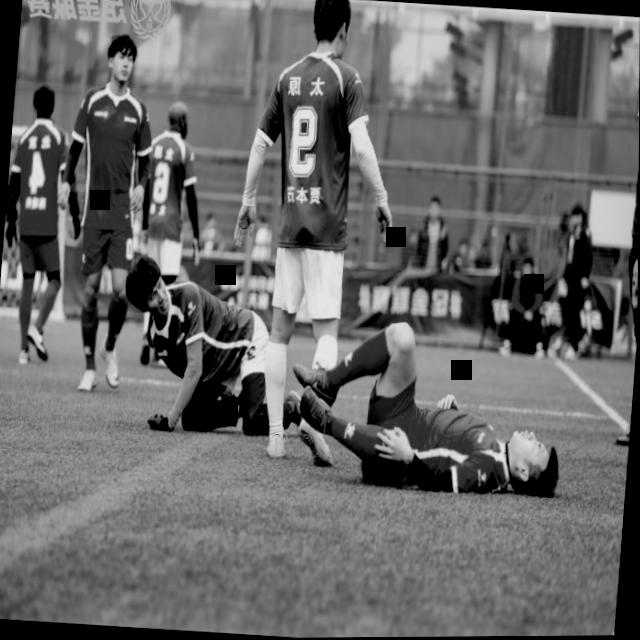Fall-Detected: (113, 243, 306, 449)
